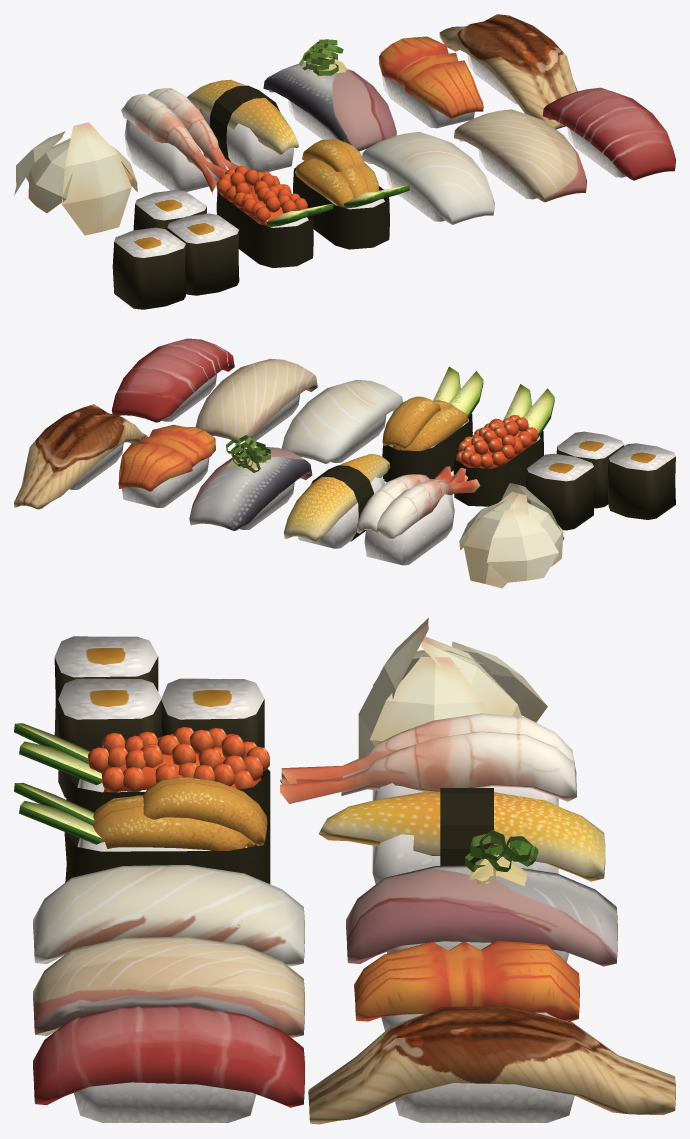
File: Sushi.fbx
3 views of the same model, one above another, from view 1: azimuth 30°, elevation 25°; view 2: azimuth 150°, elevation 25°; view 3: azimuth 270°, elevation 25° (orthographic). The views are drawn at different scales.
Visible parts, largest first — view 1: Plane, Cube.007, Cube.005, Cube.009, Cube.003, Cube, Cube.001, Cube.002, Cube.006, Cube.008, Cube.012, Cube.011 (+3 smaller); view 2: Plane, Cube.005, Cube.009, Cube.007, Cube.003, Cube, Cube.002, Cube.001, Cube.008, Cube.006, Cube.012, Cube.013 (+3 smaller); view 3: Cube.005, Cube, Cube.007, Cube.002, Cube.001, Cube.003, Cube.009, Cube.008, Cube.006, Plane, Cube.004, Cube.011 (+3 smaller).
Part boxes in pixels (bbox=[...]): Plane: bbox=[14, 122, 137, 235]; Cube.007: bbox=[263, 39, 396, 151]; Cube.005: bbox=[439, 14, 577, 129]; Cube.009: bbox=[121, 88, 238, 194]; Cube.003: bbox=[293, 139, 409, 249]; Cube: bbox=[542, 87, 675, 180]; Cube.001: bbox=[454, 109, 586, 202]; Cube.002: bbox=[362, 131, 494, 224]; Cube.006: bbox=[379, 36, 483, 128]; Cube.008: bbox=[187, 79, 298, 172]; Cube.012: bbox=[112, 227, 185, 309]; Cube.011: bbox=[167, 213, 239, 295]; Plane: bbox=[459, 483, 564, 588]; Cube.005: bbox=[14, 404, 147, 509]; Cube.009: bbox=[357, 466, 480, 565]; Cube.007: bbox=[189, 435, 312, 530]; Cube.003: bbox=[382, 366, 483, 482]; Cube: bbox=[111, 338, 234, 422]; Cube.002: bbox=[281, 379, 402, 463]; Cube.001: bbox=[195, 358, 317, 442]; Cube.008: bbox=[283, 453, 390, 548]; Cube.006: bbox=[118, 424, 215, 507]; Cube.012: bbox=[607, 443, 675, 519]; Cube.013: bbox=[453, 384, 554, 506]; Cube.005: bbox=[308, 1006, 675, 1124]; Cube: bbox=[33, 1006, 304, 1122]; Cube.007: bbox=[346, 830, 617, 966]; Cube.002: bbox=[33, 865, 304, 966]; Cube.001: bbox=[33, 936, 304, 1037]; Cube.003: bbox=[14, 777, 270, 883]; Cube.009: bbox=[280, 713, 576, 805]; Cube.008: bbox=[318, 788, 605, 884]; Cube.006: bbox=[354, 940, 579, 1030]; Plane: bbox=[358, 618, 547, 758]; Cube.004: bbox=[88, 727, 269, 792]; Cube.011: bbox=[58, 678, 161, 797].
Size of the model in its own units: 571 by 93.77 by 379.
